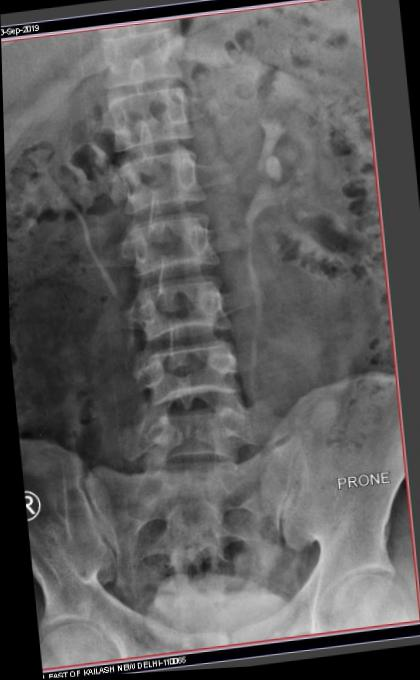bladder: (133, 545, 293, 649)
vertebrae: (113, 149, 209, 219)
